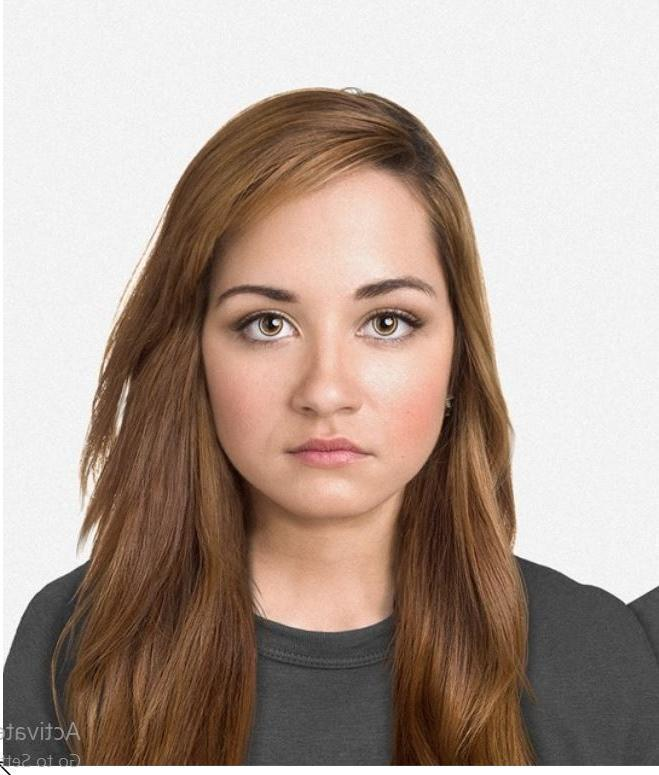Sober: (217, 189, 442, 507)
